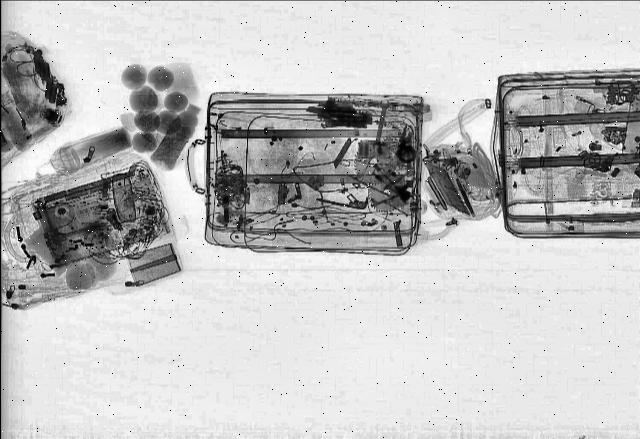Wrench: (371, 100, 392, 150)
